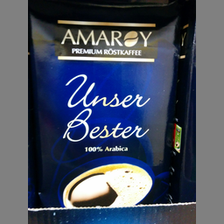coffee: (29, 1, 181, 207)
